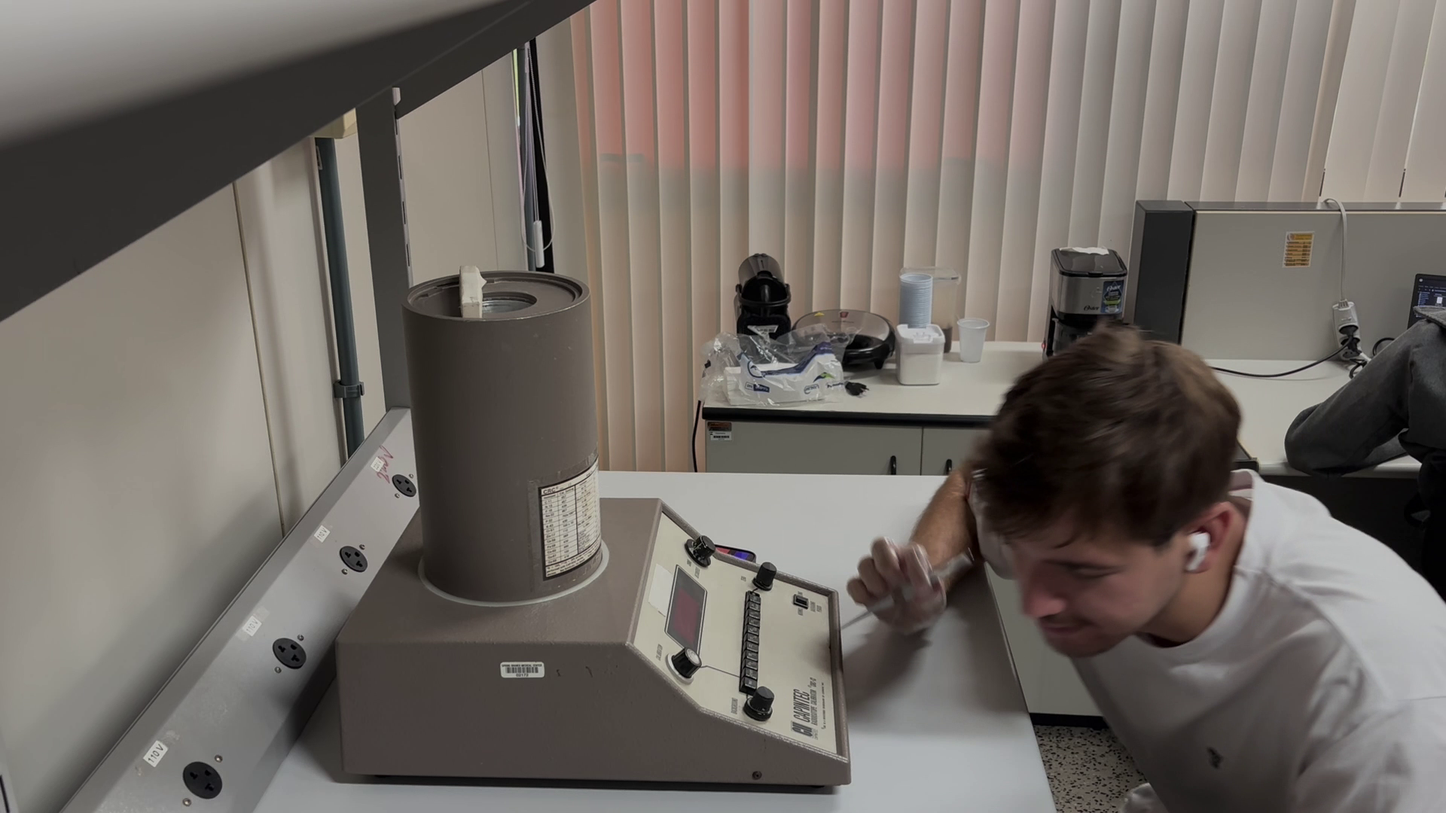Ativimetro: (398, 267, 609, 606)
Com_Luva: (847, 533, 947, 632)
